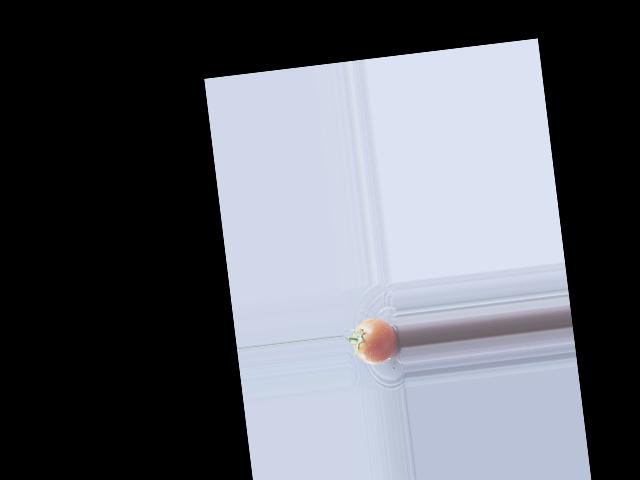tomato: (350, 316, 400, 366)
